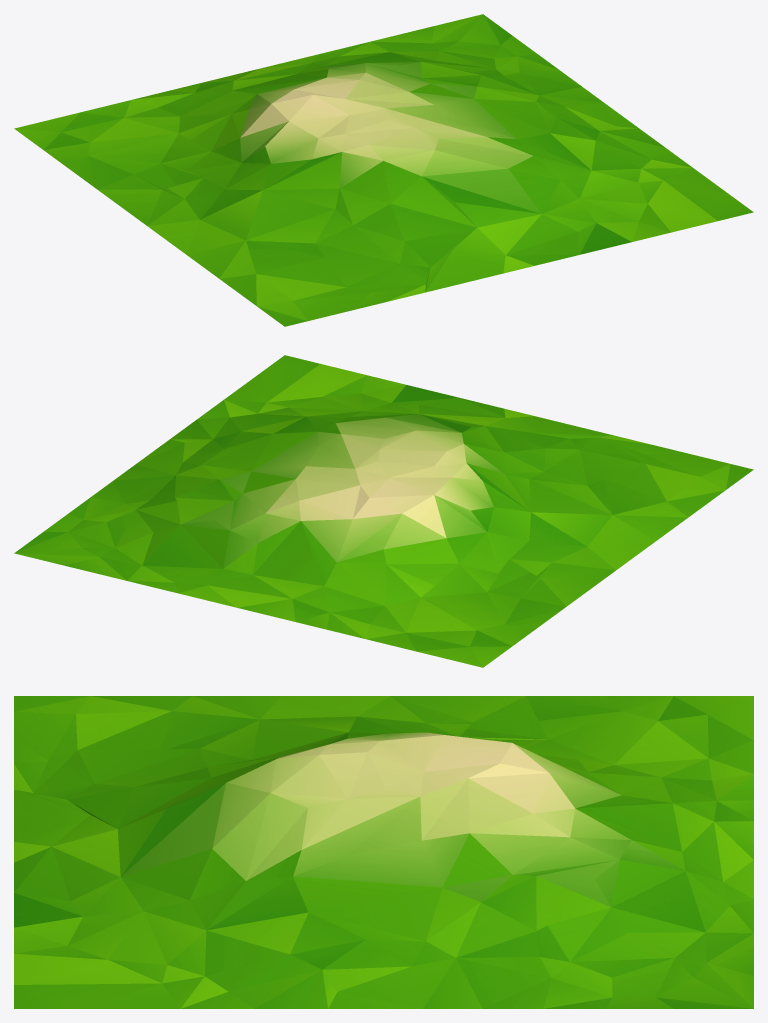
Rendered from GL-Terrain-part-02-LOD3.fbx.
The picture shows the model from 3 angles, top to bottom: view 1: azimuth 30°, elevation 25°; view 2: azimuth 150°, elevation 25°; view 3: azimuth 270°, elevation 25°; orthographic projection. The views are drawn at different scales.
Parts seen in each view (by area): view 1: GL_Terrain_part_02; view 2: GL_Terrain_part_02; view 3: GL_Terrain_part_02.
Boxes of the visible parts, x1,y1,x2,y2 form: GL_Terrain_part_02: (14, 14, 753, 326); GL_Terrain_part_02: (14, 355, 753, 667); GL_Terrain_part_02: (14, 696, 753, 1008).
Size of the model in its own units: 18 by 1.94 by 18.
